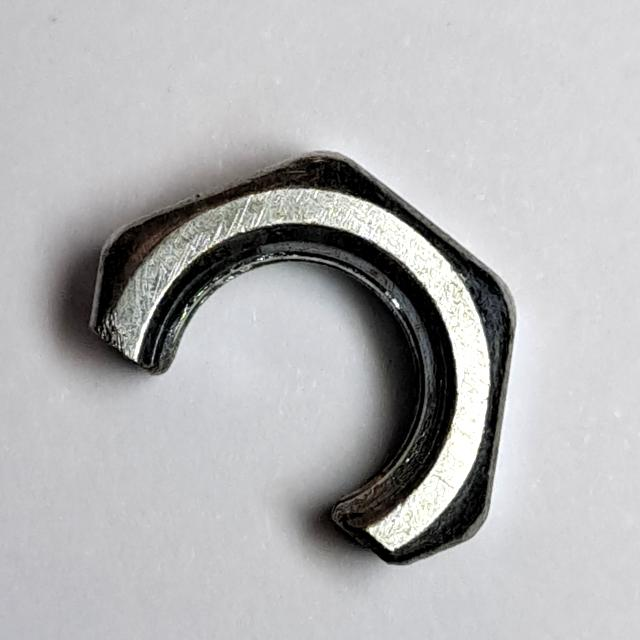Fracture: (78, 132, 525, 576)
